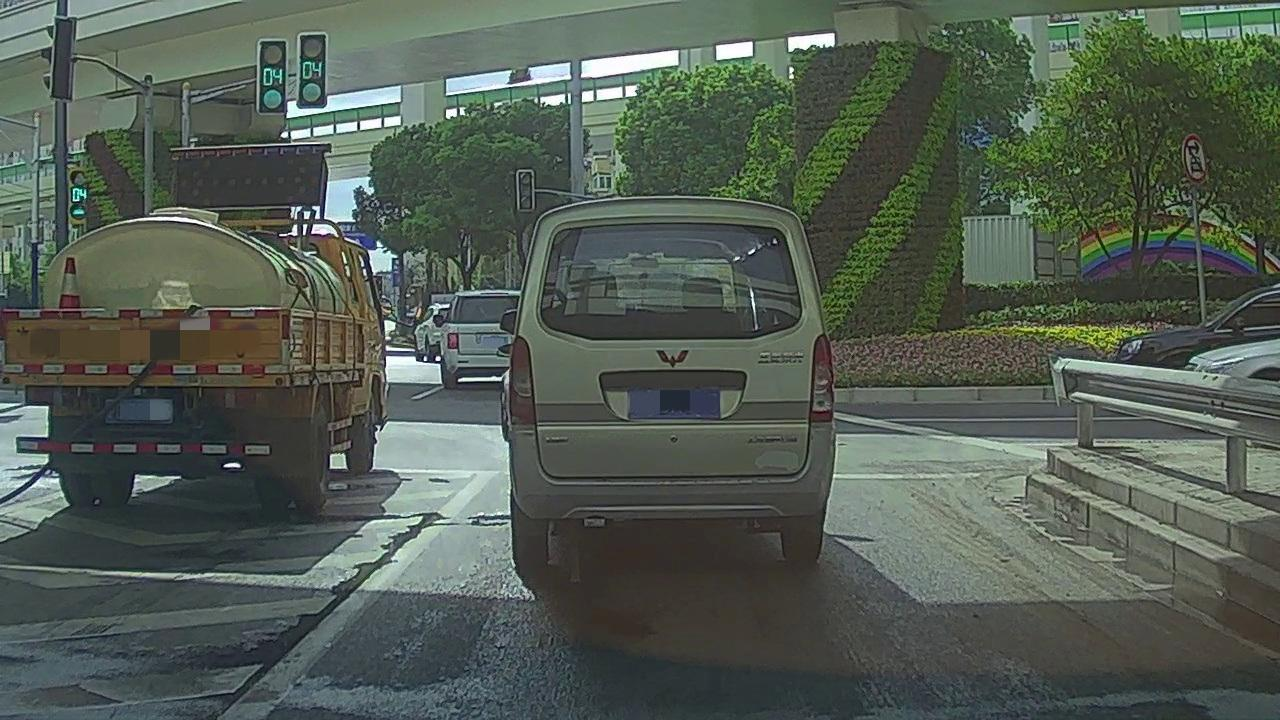traffic_light: (259, 40, 285, 113), (299, 34, 325, 107), (518, 171, 533, 211)
